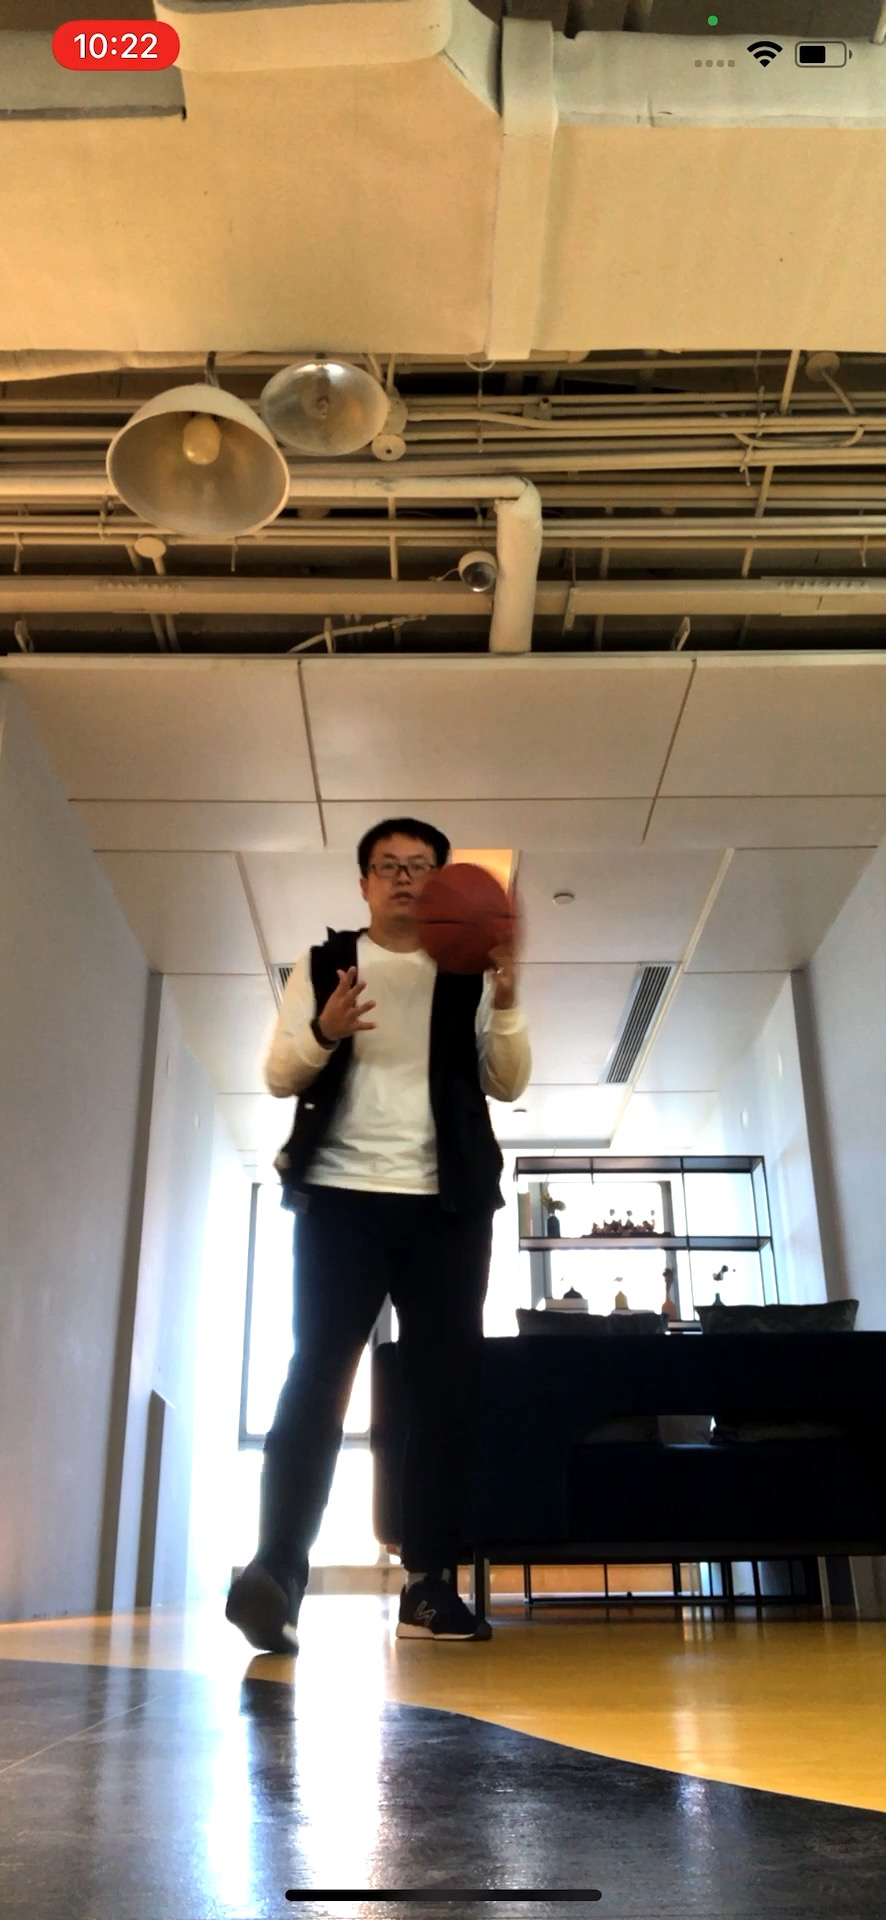ball: (412, 860, 521, 973)
